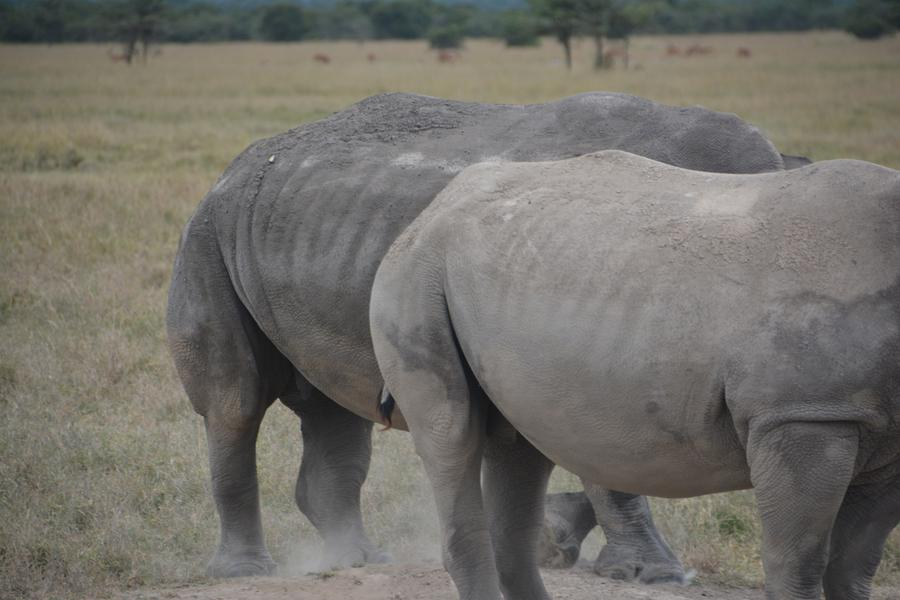rhino: (420, 163, 891, 563), (191, 107, 389, 481)
